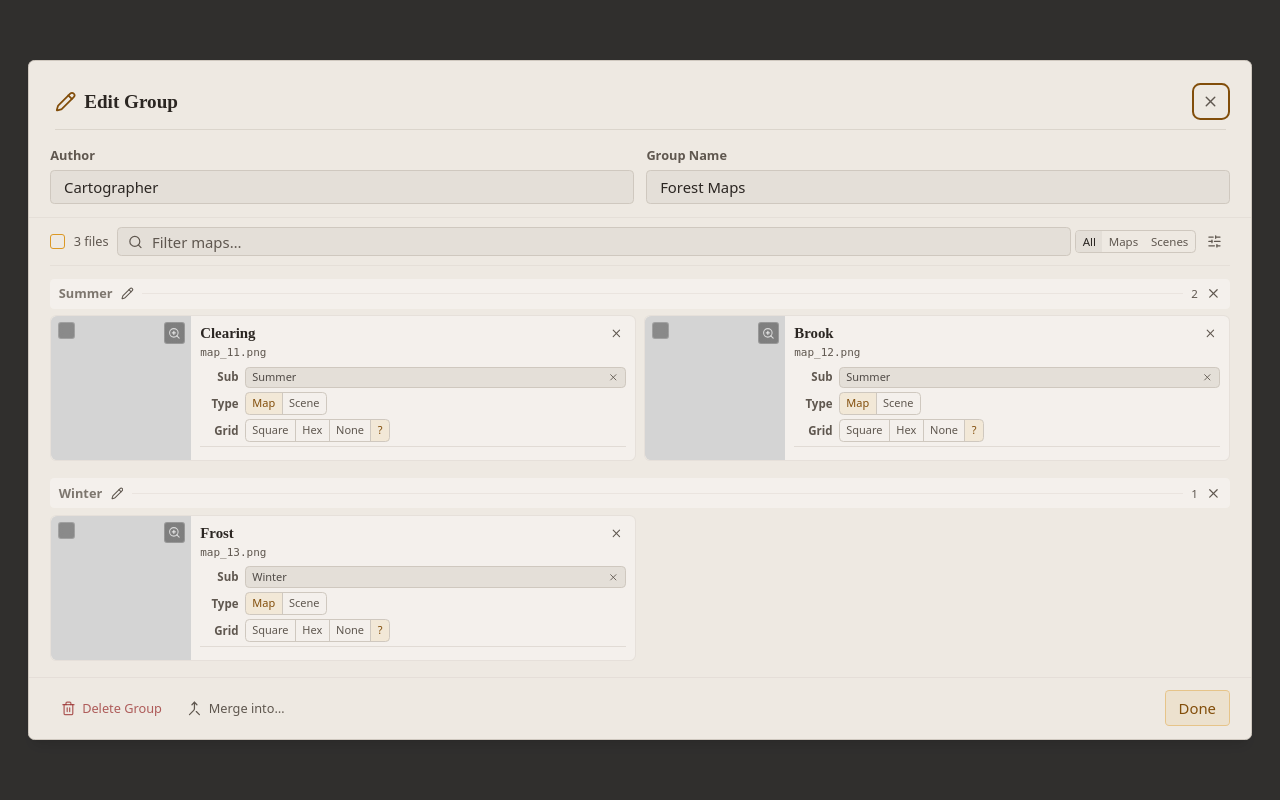
Test: EditGroupDialog › single group › filters files and reports when nothing matches
Expected: the text "Clearing" is shown, [200, 323, 256, 344]
Type "frost" into the field with placeholder "Filter maps…" at (594, 242), box [117, 227, 1071, 256]
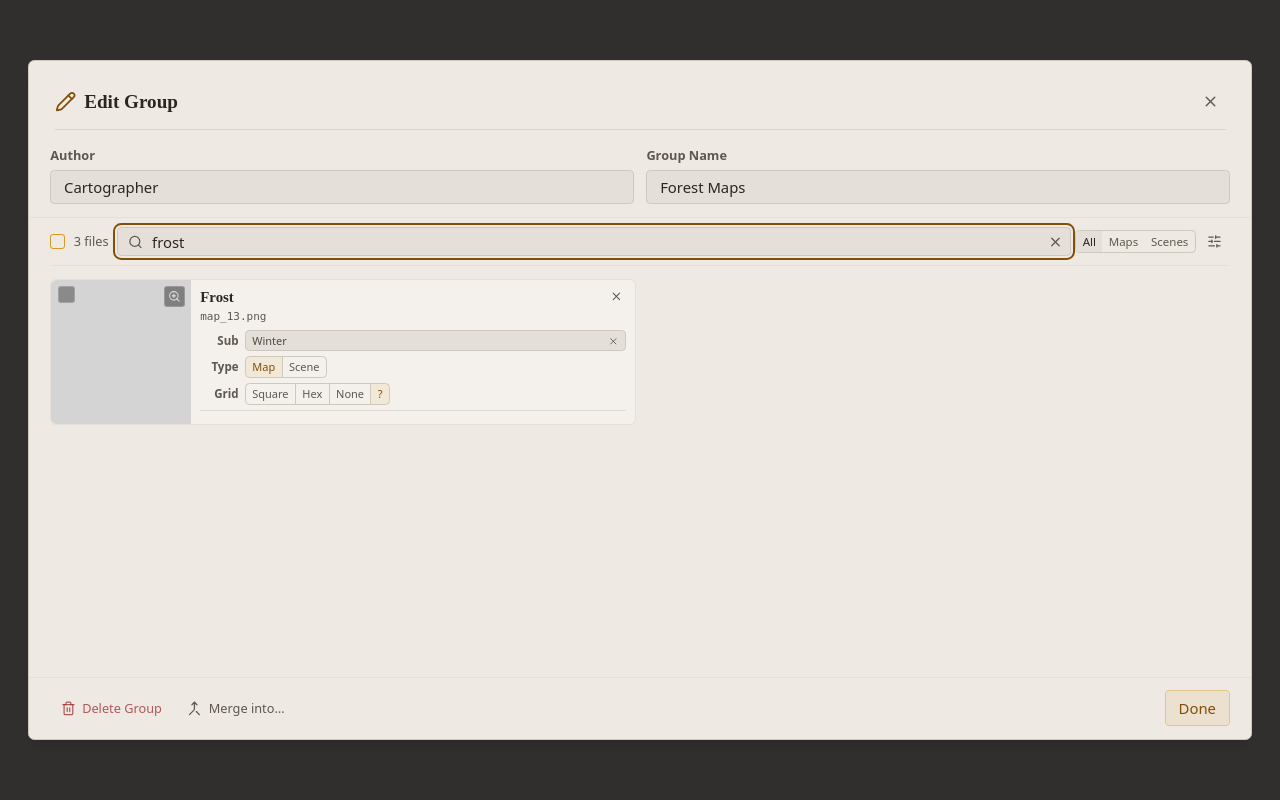
Expected: the text "Frost" is shown, [200, 287, 234, 307]
Expected: the button "Clearing" is gone
Replace the text in the field with placeholder "Filter maps…" in the row of "file" with "zzz" at (594, 242), box [117, 227, 1071, 256]
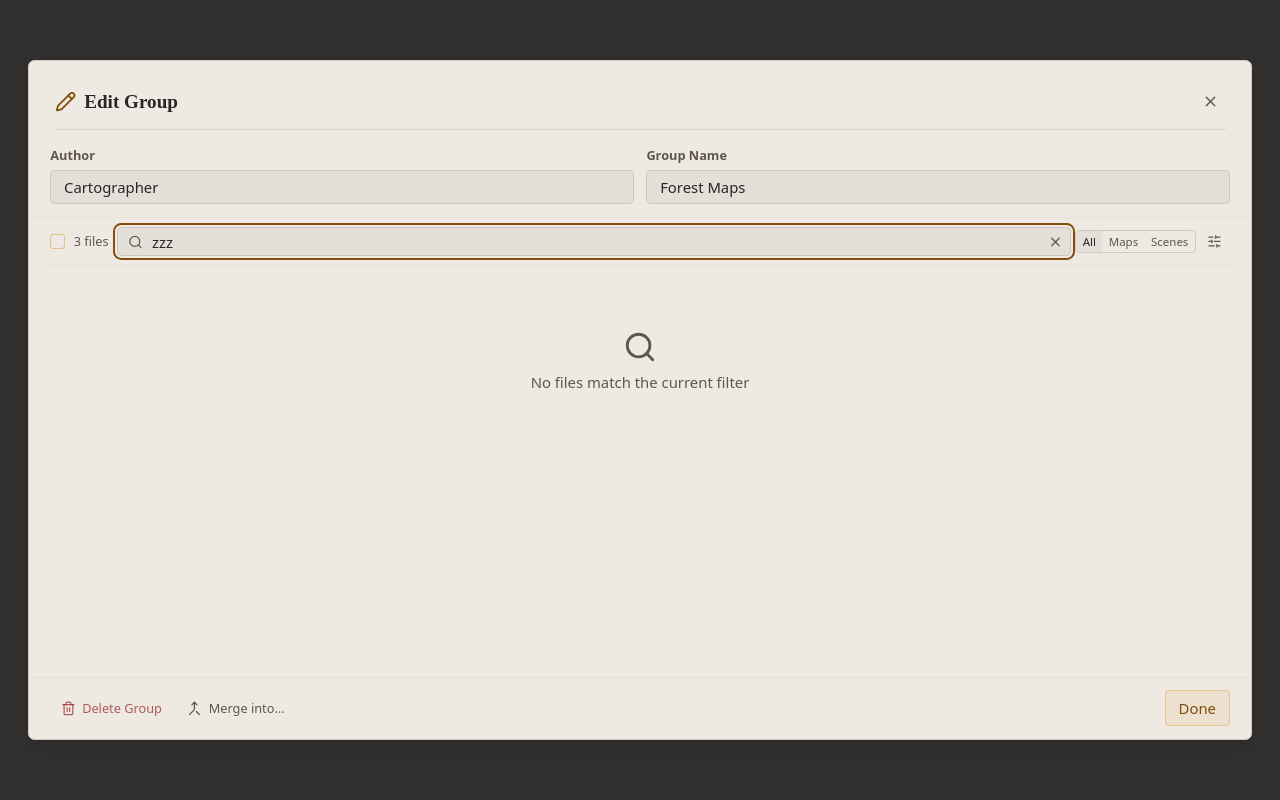
Expected: the text "No files match the current filter" is shown, [531, 372, 749, 393]
